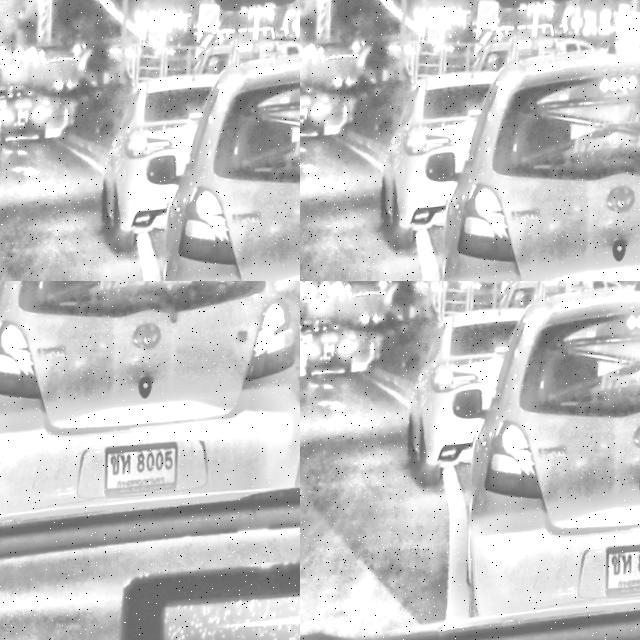license-plate: (601, 542, 640, 604)
